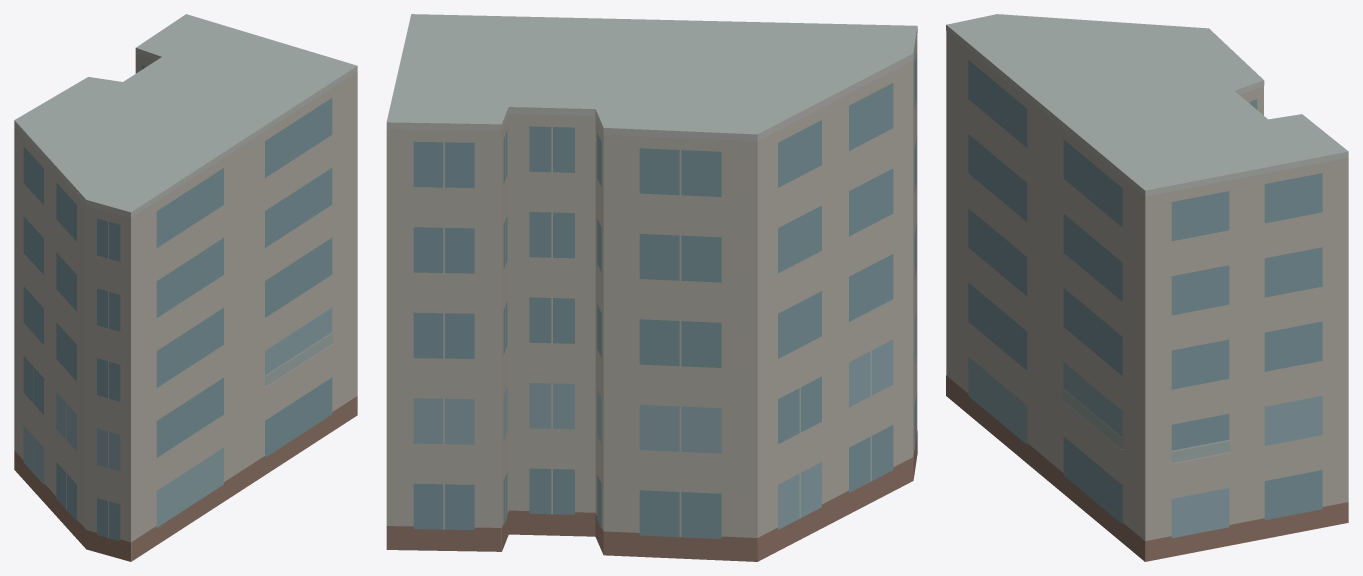
The model's file is survey-upis-32975082.glb.
The picture shows the model from 3 angles, left to right: view 1: azimuth 30°, elevation 25°; view 2: azimuth 150°, elevation 25°; view 3: azimuth 270°, elevation 25°; orthographic projection. The views are drawn at different scales.
Visible parts, largest first — view 1: survey-upis-32975082.tmp; view 2: survey-upis-32975082.tmp; view 3: survey-upis-32975082.tmp.
Boxes of the visible parts, x1=… form: survey-upis-32975082.tmp: x1=14, y1=14, x2=357, y2=561; survey-upis-32975082.tmp: x1=386, y1=14, x2=917, y2=561; survey-upis-32975082.tmp: x1=946, y1=14, x2=1348, y2=561.
Size of the model in its own units: 15.57 by 15.25 by 15.
